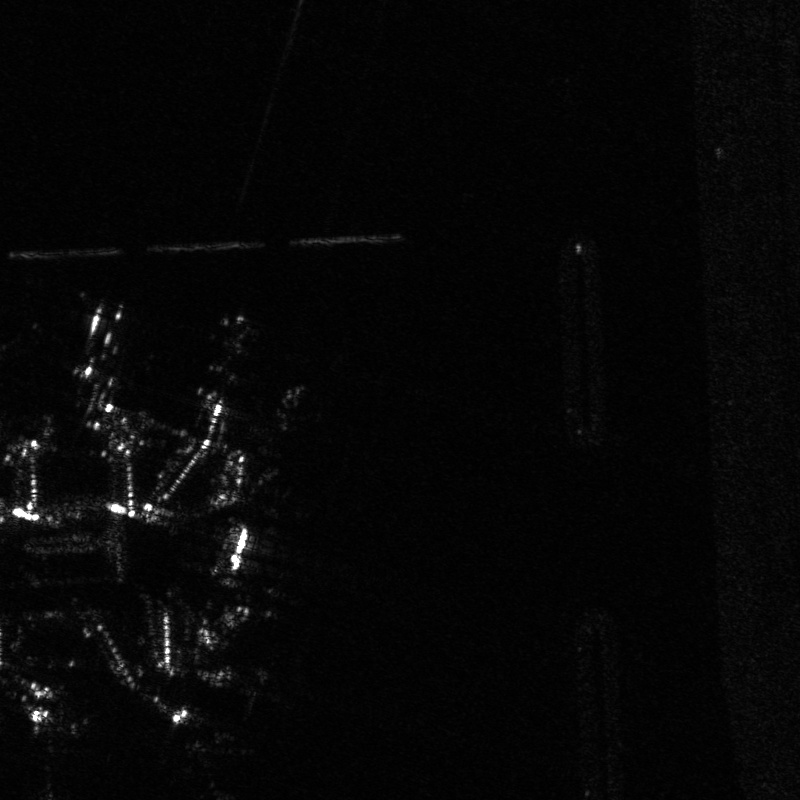A220: (179, 301, 259, 411), (274, 383, 329, 430)
A320/321: (40, 298, 167, 395)
Boeing737: (150, 696, 266, 799)
